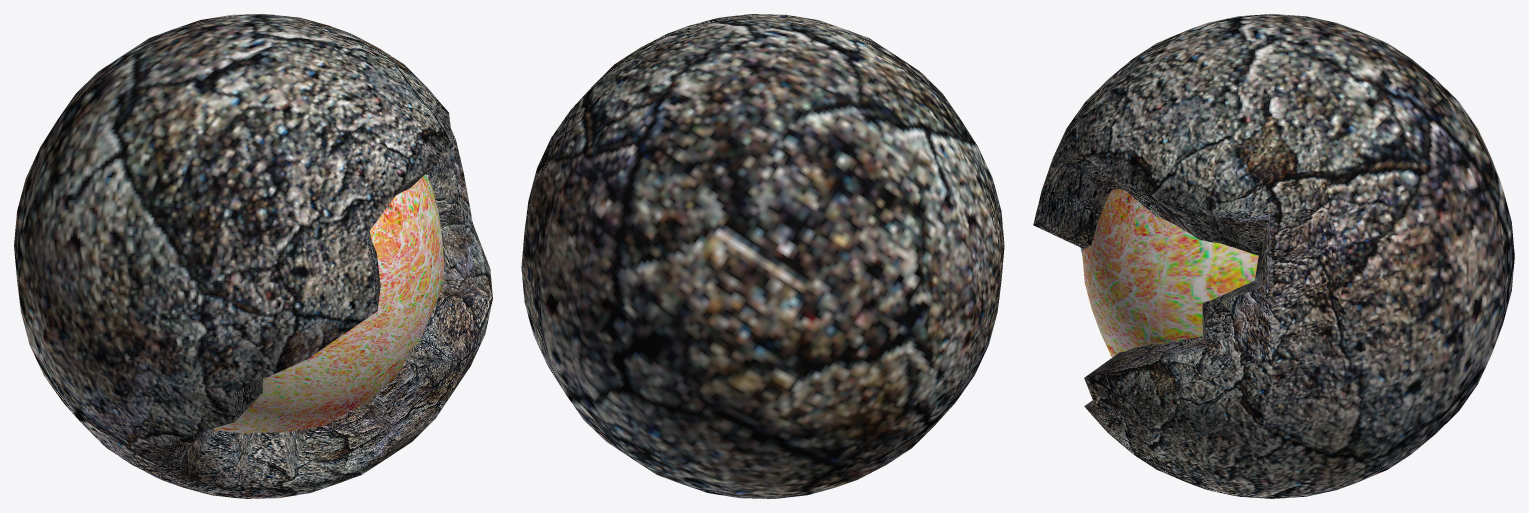
Rendered from Planet_Imhotep_001.fbx.
The picture shows the model from 3 angles, left to right: view 1: azimuth 30°, elevation 25°; view 2: azimuth 150°, elevation 25°; view 3: azimuth 270°, elevation 25°; orthographic projection.
Visible parts, largest first — view 1: Planet_Imhotep; view 2: Planet_Imhotep; view 3: Planet_Imhotep.
Boxes of the visible parts, bbox=[...] form: Planet_Imhotep: bbox=[14, 14, 492, 498]; Planet_Imhotep: bbox=[521, 14, 1004, 498]; Planet_Imhotep: bbox=[1033, 14, 1514, 498].
Bounding box in the file's own units: 23.05 × 23.05 × 22.87.
